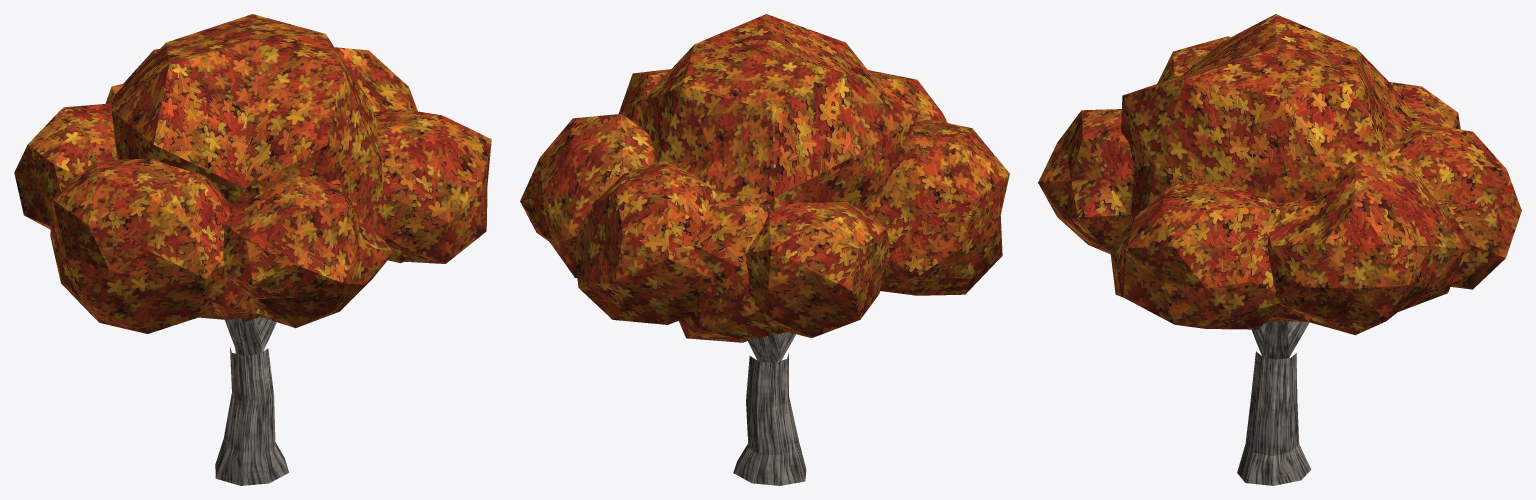
The model's file is maple.glb.
3 renders of one model, left to right at view 1: azimuth 30°, elevation 25°; view 2: azimuth 150°, elevation 25°; view 3: azimuth 270°, elevation 25°, orthographic.
Visible parts, largest first — view 1: Maple; view 2: Maple; view 3: Maple.
Boxes of the visible parts, box(x1,y1,x2,y2) form: Maple: box(14, 14, 491, 485); Maple: box(520, 14, 1009, 485); Maple: box(1038, 14, 1521, 485).
Bounding box in the file's own units: 6.26 × 6.43 × 6.62.
2 materials, 2 textured.
